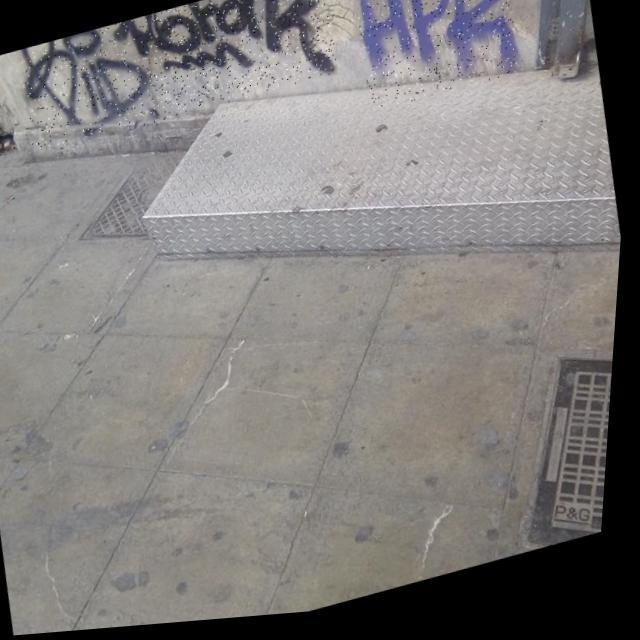-: (106, 0, 344, 134), (345, 0, 527, 120), (14, 18, 161, 154)
